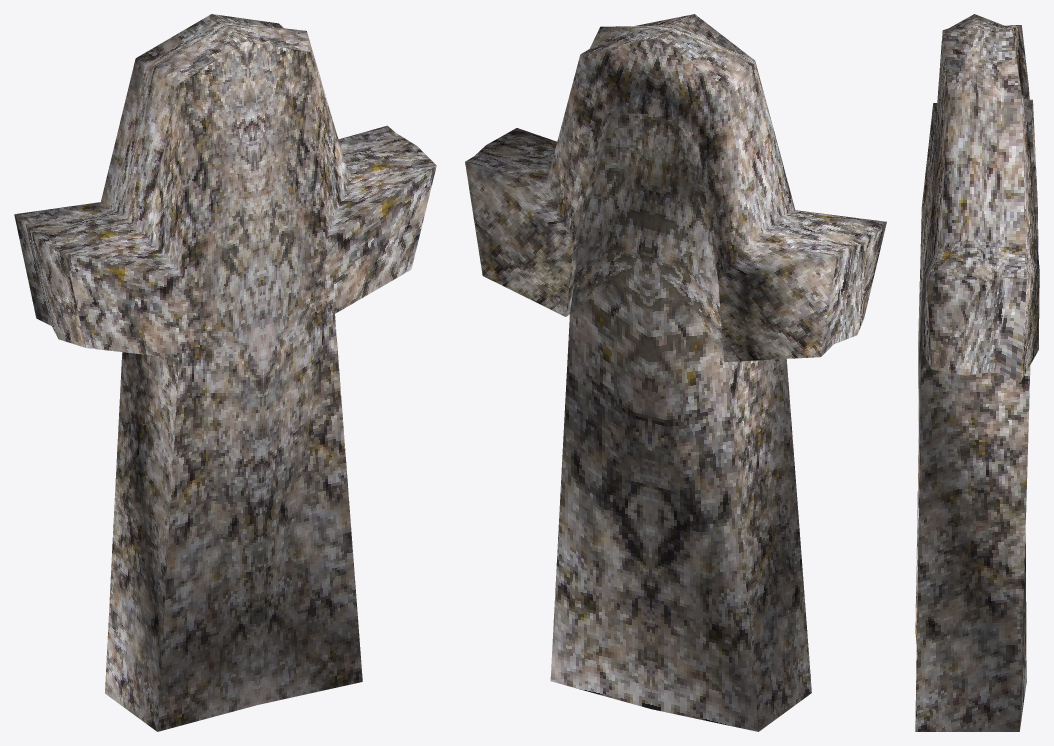
File: grave_cross.glb
The picture shows the model from 3 angles, left to right: view 1: azimuth 30°, elevation 25°; view 2: azimuth 150°, elevation 25°; view 3: azimuth 270°, elevation 25°; orthographic projection.
Visible parts, largest first — view 1: grave_cross; view 2: grave_cross; view 3: grave_cross.
Part boxes in pixels (x1=…): grave_cross: x1=14, y1=14, x2=436, y2=731; grave_cross: x1=465, y1=14, x2=886, y2=731; grave_cross: x1=915, y1=14, x2=1039, y2=731.
Size of the model in its own units: 1.15 by 1.9 by 0.3276.
Materials: 1 (1 with a texture image).
